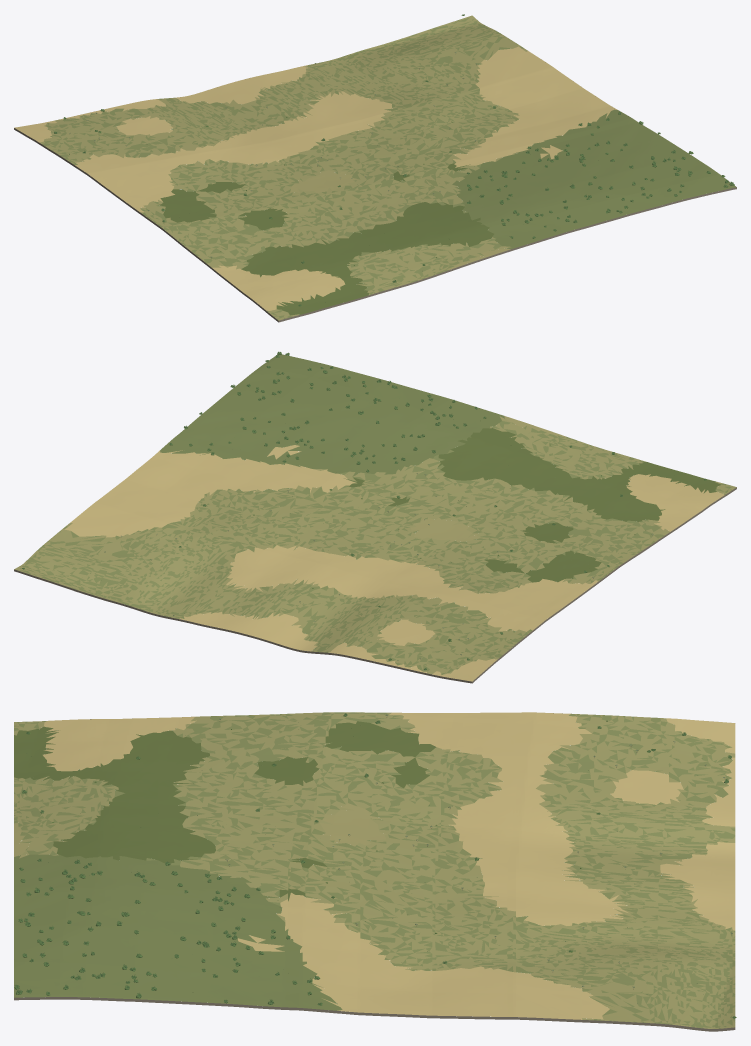
File: parca_+1_-3-yakin.glb
3 renders of one model, top to bottom at view 1: azimuth 30°, elevation 25°; view 2: azimuth 150°, elevation 25°; view 3: azimuth 270°, elevation 25°, orthographic. The views are drawn at different scales.
Visible parts, largest first — view 1: parca_+1_-3_arazi, parca_+1_-3_bitkiler; view 2: parca_+1_-3_arazi, parca_+1_-3_bitkiler; view 3: parca_+1_-3_arazi, parca_+1_-3_bitkiler.
Boxes of the visible parts, box(x1,y1,x2,y2) form: parca_+1_-3_arazi: box(14, 15, 736, 322); parca_+1_-3_bitkiler: box(54, 14, 734, 306); parca_+1_-3_arazi: box(14, 354, 736, 683); parca_+1_-3_bitkiler: box(22, 351, 706, 670); parca_+1_-3_arazi: box(14, 712, 735, 1031); parca_+1_-3_bitkiler: box(14, 713, 736, 1018).
Size of the model in its own units: 1004 by 83.87 by 1002.
